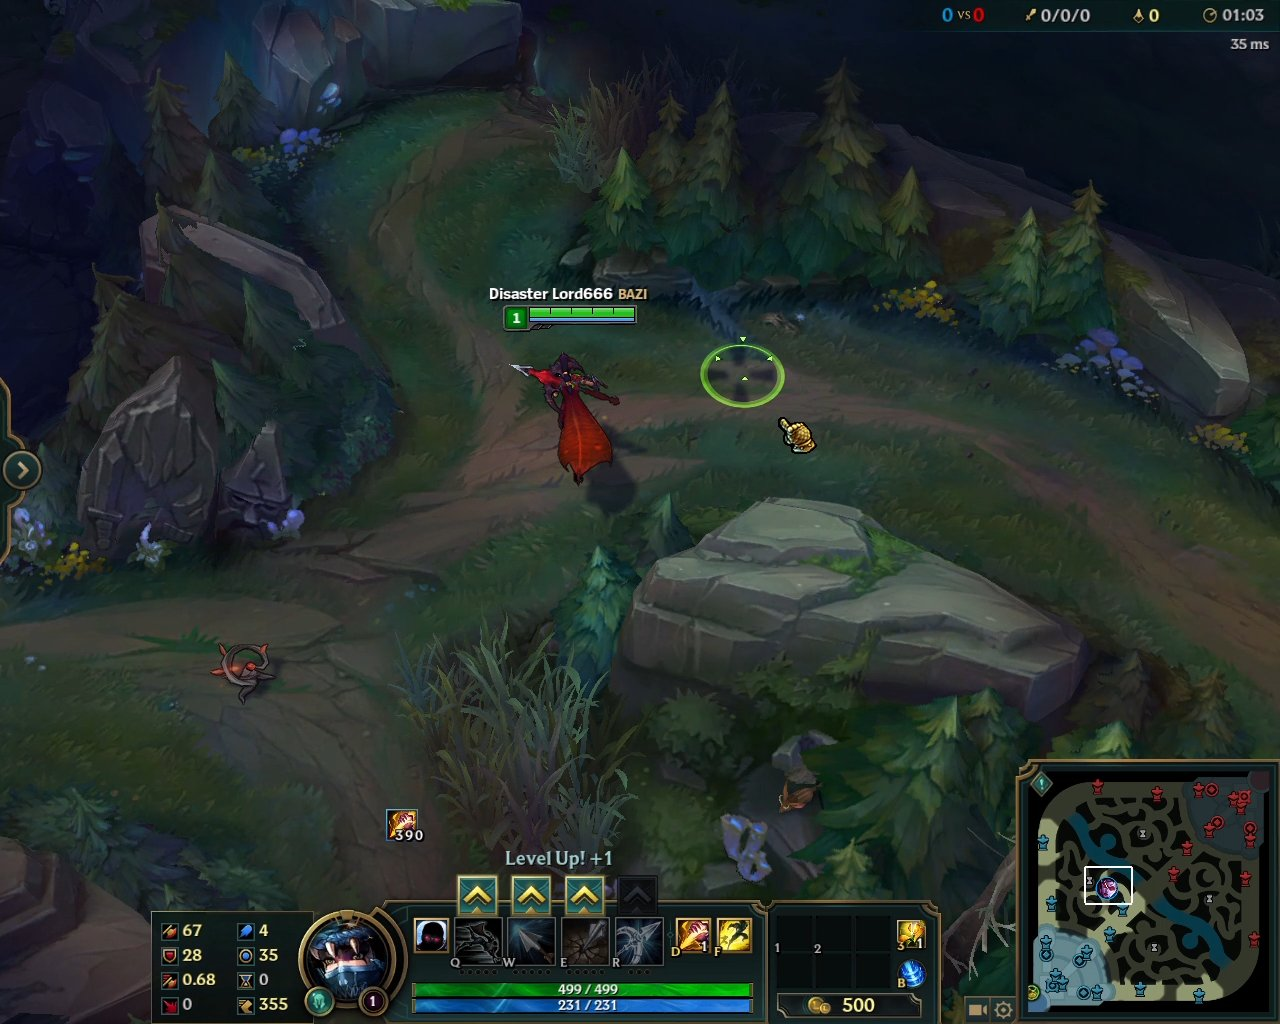Vayne: (506, 341, 623, 490)
